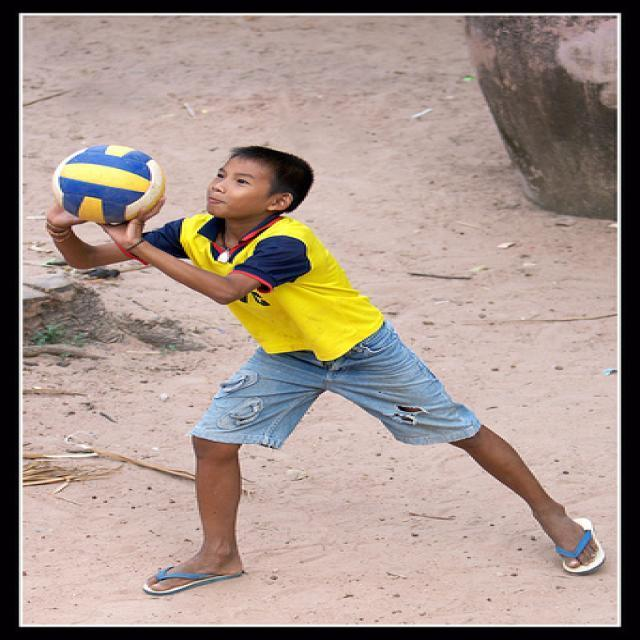volleyball: (51, 144, 164, 223)
